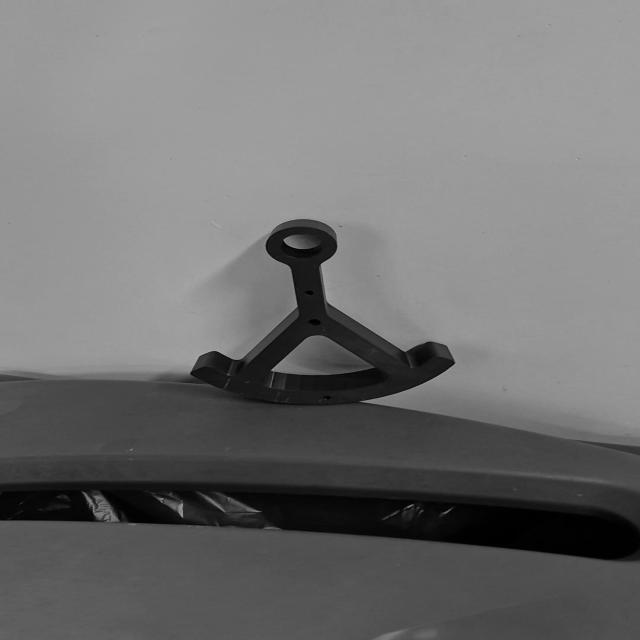haptic: (188, 218, 458, 406)
